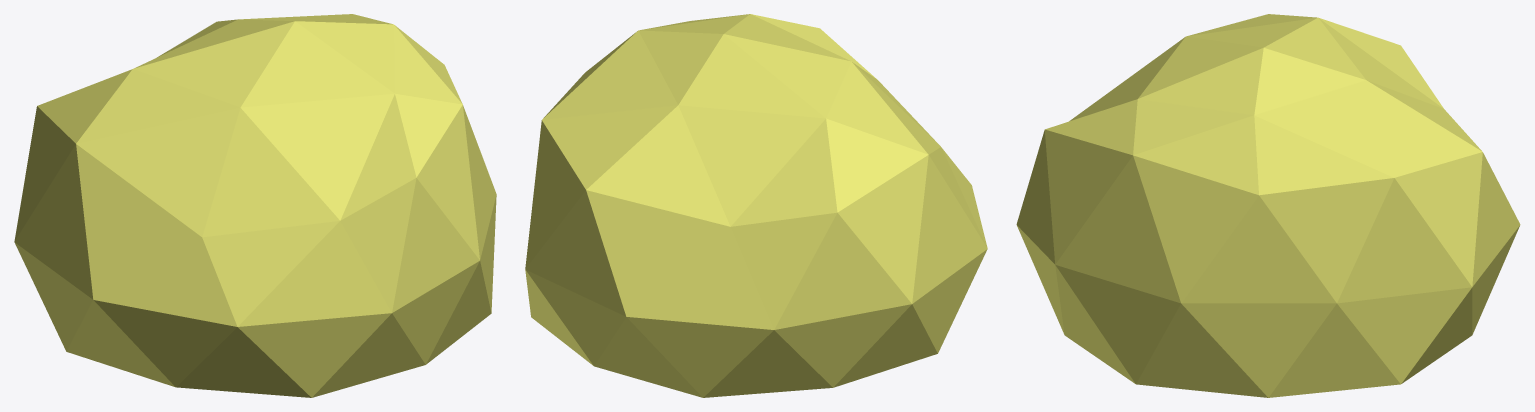
The model's file is gold1.fbx.
3 renders of one model, left to right at view 1: azimuth 30°, elevation 25°; view 2: azimuth 150°, elevation 25°; view 3: azimuth 270°, elevation 25°, orthographic. The views are drawn at different scales.
Parts seen in each view (by area): view 1: Icosphere; view 2: Icosphere; view 3: Icosphere.
Part boxes in pixels (<box>): Icosphere: <box>14,14,496,397</box>; Icosphere: <box>525,14,987,397</box>; Icosphere: <box>1016,14,1520,397</box>.
Size of the model in its own units: 180 by 120 by 200.
